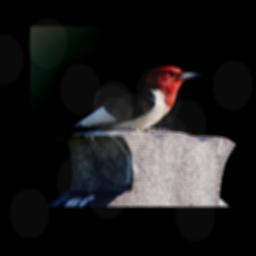Woodpecker: (47, 64, 208, 146)
